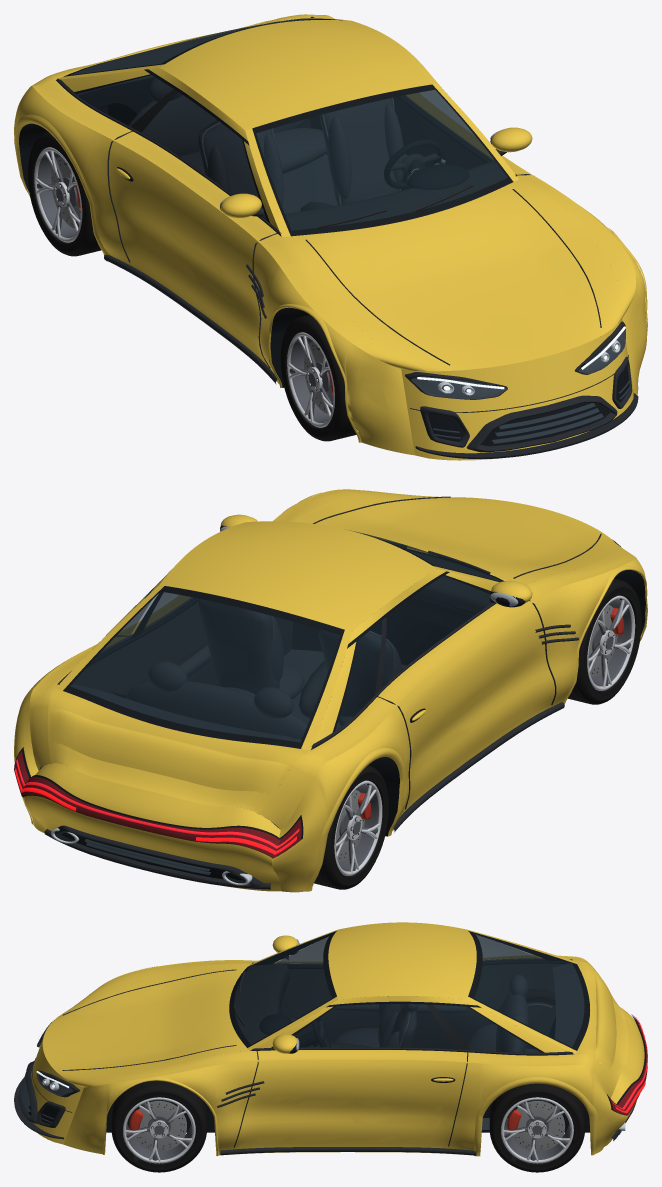
The model's file is coupe.glb.
3 renders of one model, top to bottom at view 1: azimuth 30°, elevation 25°; view 2: azimuth 150°, elevation 25°; view 3: azimuth 270°, elevation 25°, orthographic. The views are drawn at different scales.
Visible parts, largest first — view 1: body_paint, body_glass, body_upholstery, body_satin_graphite, body_weatherstrip, right_wheel_tyre_rubber (×2), body_lamp_housing, right_wheel_cast_graphite (×2), right_wheel_machined_alloy (×2); view 2: body_paint, body_glass, body_upholstery, body_satin_graphite, body_weatherstrip, right_wheel_tyre_rubber (×2), body_ruby_lens, right_wheel_cast_graphite (×2), right_wheel_machined_alloy (×2), body_light_tail, body_lamp_housing, body_light_brake; view 3: body_paint, body_glass, body_satin_graphite, body_upholstery, body_weatherstrip, left_wheel_tyre_rubber (×2), left_wheel_machined_alloy (×2), left_wheel_rotor_steel (×2), left_wheel_cast_graphite (×2), body_lamp_housing, body_ruby_lens, right_wheel_tyre_rubber.
Boxes of the visible parts, x1=… form: body_paint: x1=14, y1=14, x2=647, y2=460; body_glass: x1=71, y1=18, x2=507, y2=230; body_upholstery: x1=70, y1=19, x2=424, y2=217; body_satin_graphite: x1=56, y1=16, x2=638, y2=458; body_weatherstrip: x1=19, y1=18, x2=629, y2=446; right_wheel_tyre_rubber (×2): x1=28, y1=132, x2=356, y2=441; body_lamp_housing: x1=406, y1=168, x2=631, y2=443; right_wheel_cast_graphite (×2): x1=37, y1=151, x2=332, y2=422; right_wheel_machined_alloy (×2): x1=34, y1=147, x2=334, y2=427; body_paint: x1=14, y1=489, x2=647, y2=892; body_glass: x1=70, y1=531, x2=502, y2=742; body_upholstery: x1=70, y1=599, x2=405, y2=742; body_satin_graphite: x1=44, y1=496, x2=620, y2=889; body_weatherstrip: x1=16, y1=525, x2=646, y2=891; right_wheel_tyre_rubber (×2): x1=314, y1=578, x2=641, y2=889; body_ruby_lens: x1=14, y1=751, x2=301, y2=858; right_wheel_cast_graphite (×2): x1=336, y1=600, x2=631, y2=871; right_wheel_machined_alloy (×2): x1=334, y1=595, x2=635, y2=875; body_light_tail: x1=16, y1=759, x2=299, y2=848; body_lamp_housing: x1=84, y1=839, x2=210, y2=875; body_light_brake: x1=14, y1=768, x2=296, y2=854; body_paint: x1=31, y1=922, x2=644, y2=1156; body_glass: x1=234, y1=933, x2=584, y2=1052; body_satin_graphite: x1=14, y1=956, x2=636, y2=1155; body_upholstery: x1=334, y1=963, x2=584, y2=1130; body_weatherstrip: x1=28, y1=931, x2=645, y2=1132; left_wheel_tyre_rubber (×2): x1=111, y1=1080, x2=585, y2=1172; left_wheel_machined_alloy (×2): x1=123, y1=1097, x2=573, y2=1163; left_wheel_rotor_steel (×2): x1=134, y1=1100, x2=565, y2=1151; left_wheel_cast_graphite (×2): x1=126, y1=1102, x2=570, y2=1160; body_lamp_housing: x1=20, y1=1018, x2=293, y2=1123; body_ruby_lens: x1=609, y1=1015, x2=647, y2=1115; right_wheel_tyre_rubber: x1=493, y1=988, x2=555, y2=1023.
Size of the model in its own units: 1.99 by 1.3 by 4.44.
